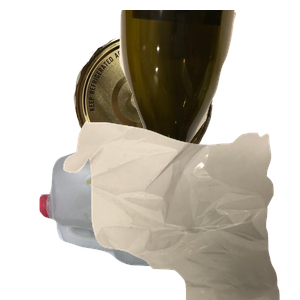glass: (117, 10, 300, 190)
metal: (71, 29, 276, 193)
plastic: (37, 147, 254, 300)
trash: (61, 120, 300, 300)
